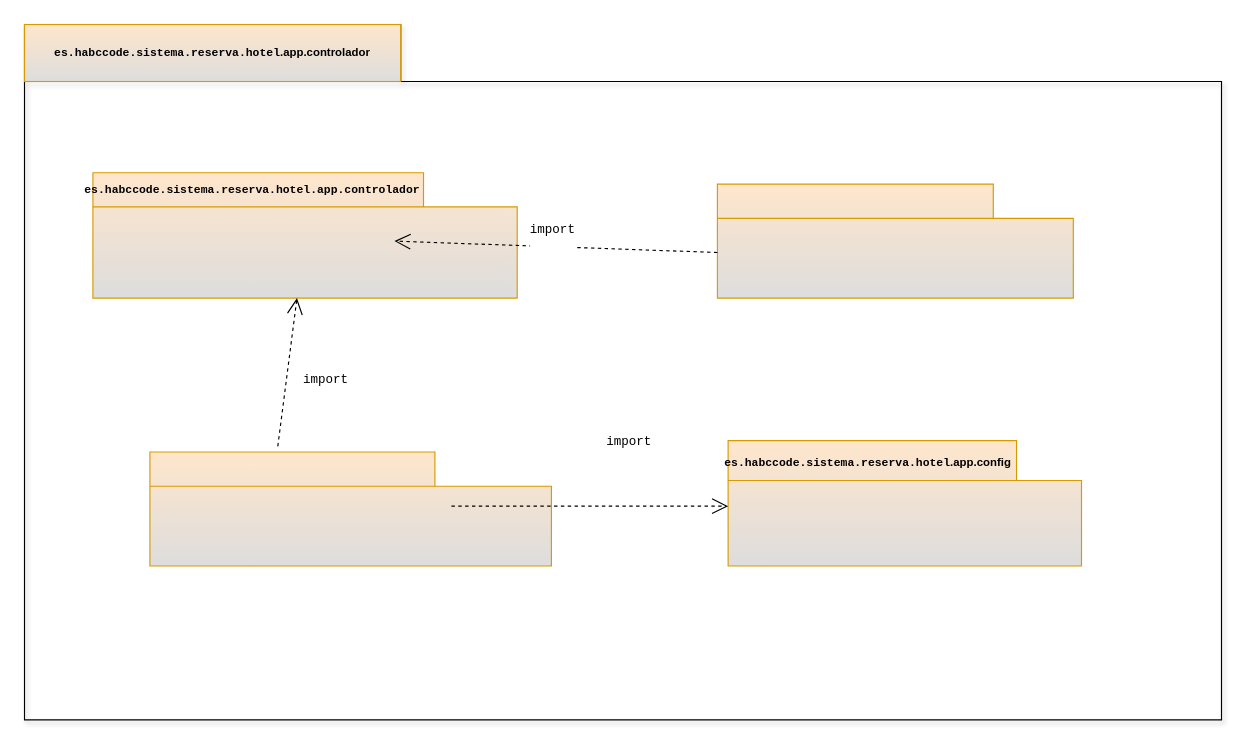
Some shapes in this 1248 by 748 pixel diagram are drawn without their labels. Here are the shapes that lost their labels. From the top down, the centre of each, then its label:
point (894, 240): es . habccode . sistema . reserva . hotel .app.view
point (350, 508): es . habccode . sistema . reserva . hotel .app.model
